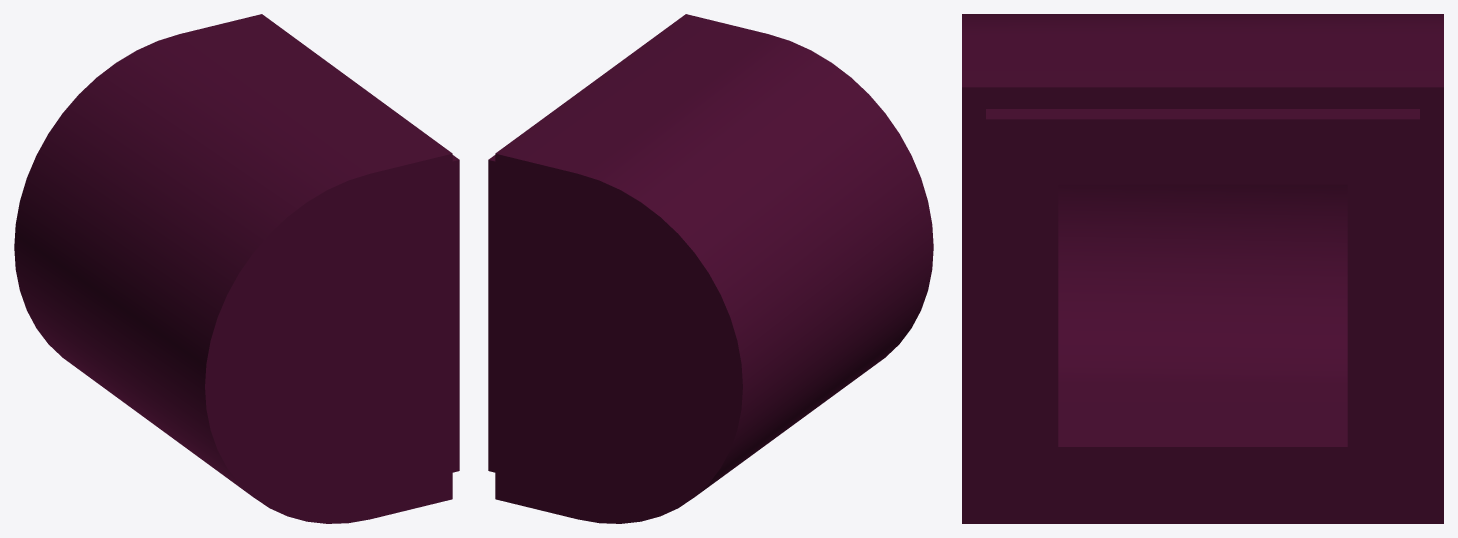
The model's file is slope_curved1*1*2:3_double_magenta.obj.
3 renders of one model, left to right at view 1: azimuth 30°, elevation 25°; view 2: azimuth 150°, elevation 25°; view 3: azimuth 270°, elevation 25°, orthographic. The views are drawn at different scales.
Bounding box in the file's own units: 16 × 20 × 20.
